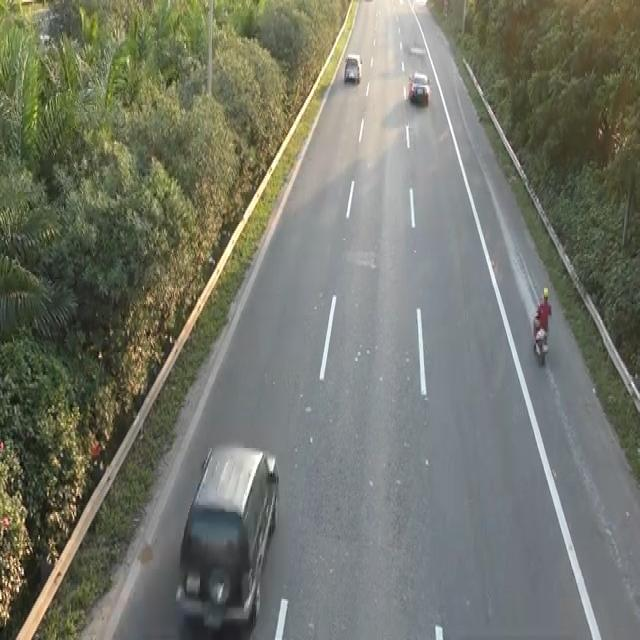car: (174, 437, 281, 631)
minibus: (531, 310, 549, 364)
